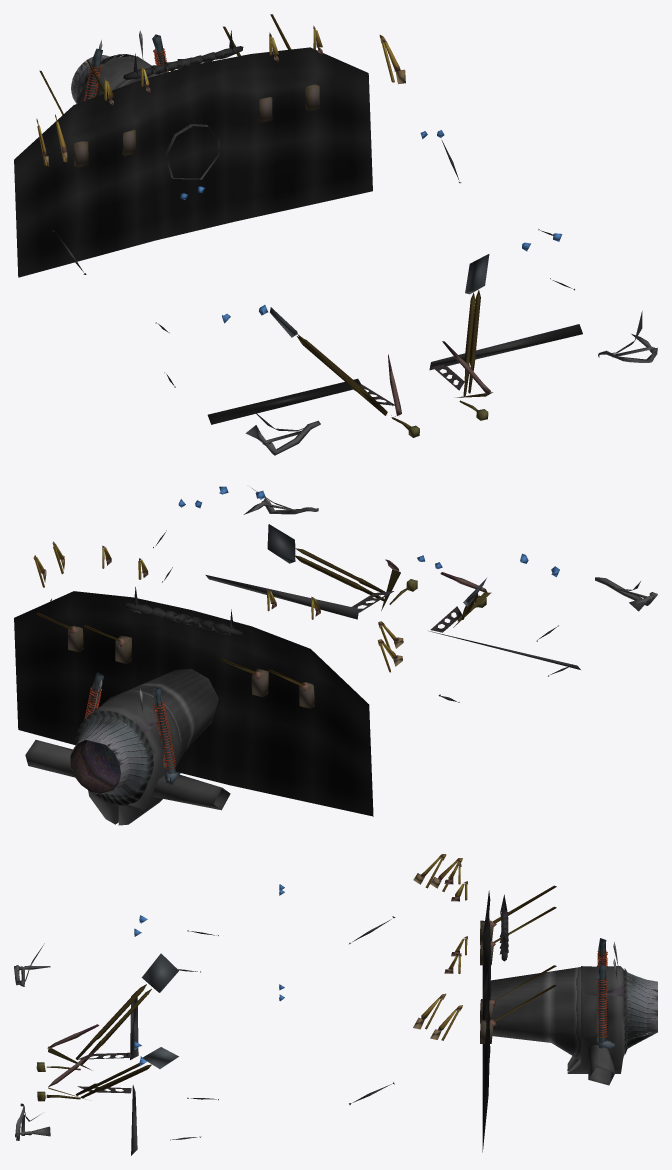
File: TW_interior_d1.obj
The picture shows the model from 3 angles, top to bottom: view 1: azimuth 30°, elevation 25°; view 2: azimuth 150°, elevation 25°; view 3: azimuth 270°, elevation 25°; orthographic projection. The views are drawn at different scales.
Parts seen in each view (by area): view 1: TW_interior; view 2: TW_interior; view 3: TW_interior.
Boxes of the visible parts, x1,y1,x2,y2 form: TW_interior: (14, 14, 657, 455); TW_interior: (14, 486, 657, 825); TW_interior: (14, 854, 657, 1155).
Size of the model in its own units: 3.07 by 1.48 by 4.86.
1 material, 1 textured.
